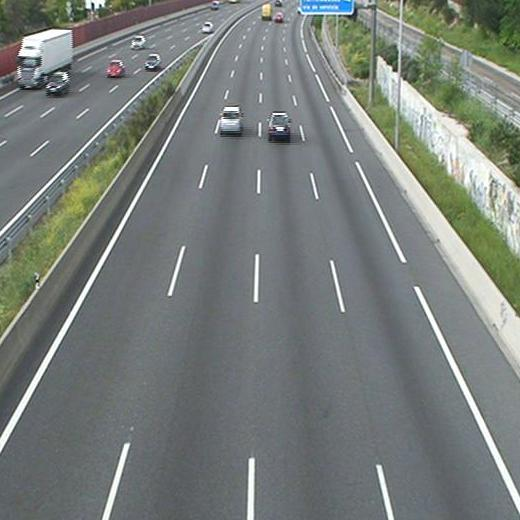car: (221, 106, 242, 132), (268, 113, 291, 135), (274, 13, 284, 22)
van: (261, 3, 272, 21)
